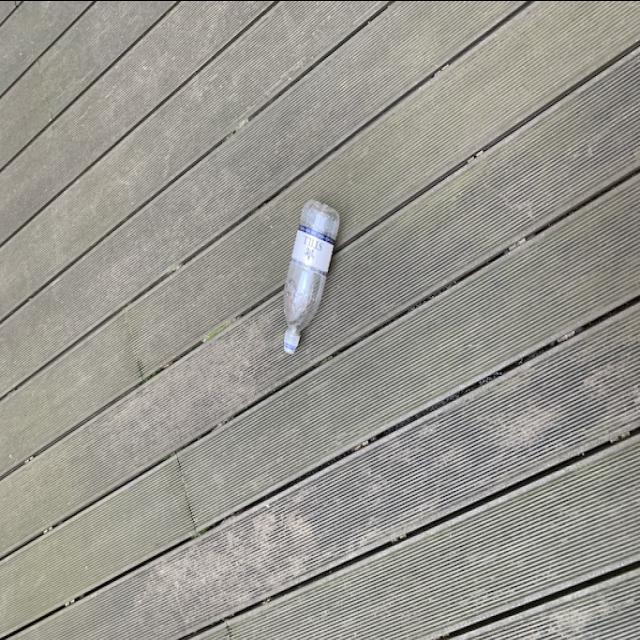PET: (282, 198, 342, 358)
